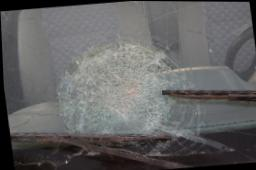Windshield: (0, 1, 256, 170)
